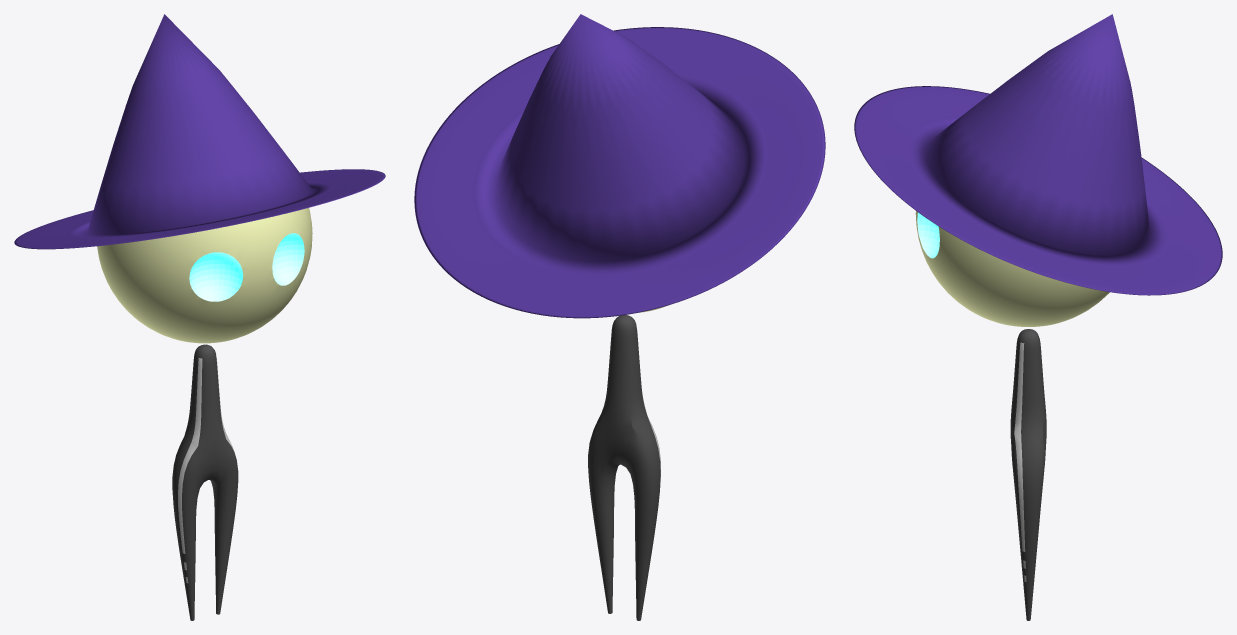
File: animated_wizard_final.fbx
The picture shows the model from 3 angles, left to right: view 1: azimuth 30°, elevation 25°; view 2: azimuth 150°, elevation 25°; view 3: azimuth 270°, elevation 25°; orthographic projection. The views are drawn at different scales.
Visible parts, largest first — view 1: hat, head, body; view 2: hat, body; view 3: hat, head, body.
Boxes of the visible parts, x1=… form: hat: x1=14, y1=14, x2=385, y2=249; head: x1=97, y1=208, x2=312, y2=343; body: x1=172, y1=344, x2=238, y2=620; hat: x1=414, y1=14, x2=825, y2=318; body: x1=588, y1=315, x2=660, y2=620; hat: x1=854, y1=14, x2=1222, y2=295; head: x1=915, y1=211, x2=1109, y2=326; body: x1=1010, y1=329, x2=1046, y2=620.
Size of the model in its own units: 211 by 354 by 197.
